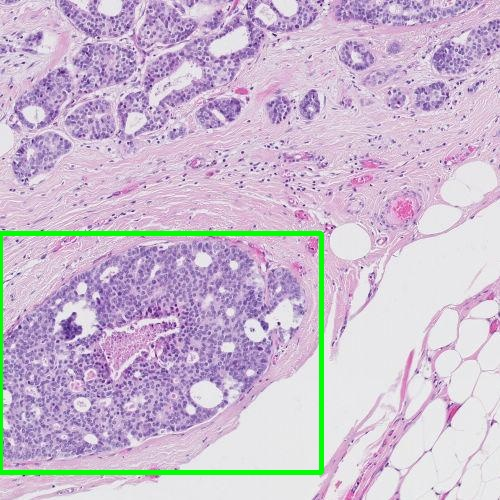DCIS: (0, 233, 321, 472)
